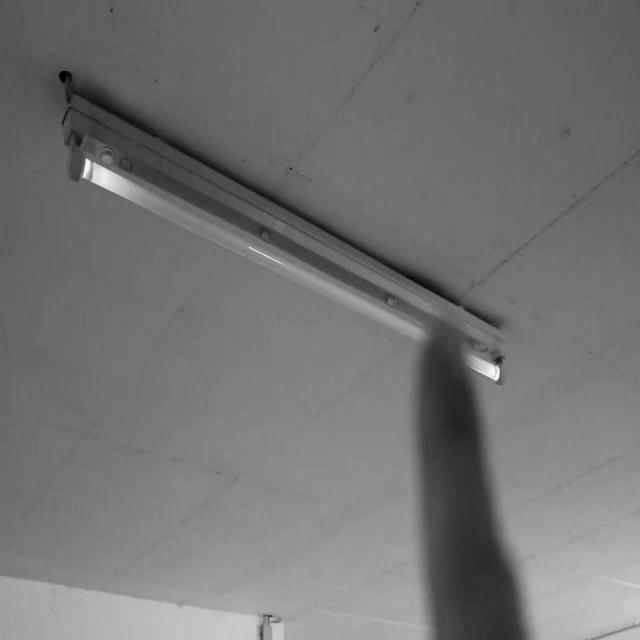light: (59, 70, 509, 385)
